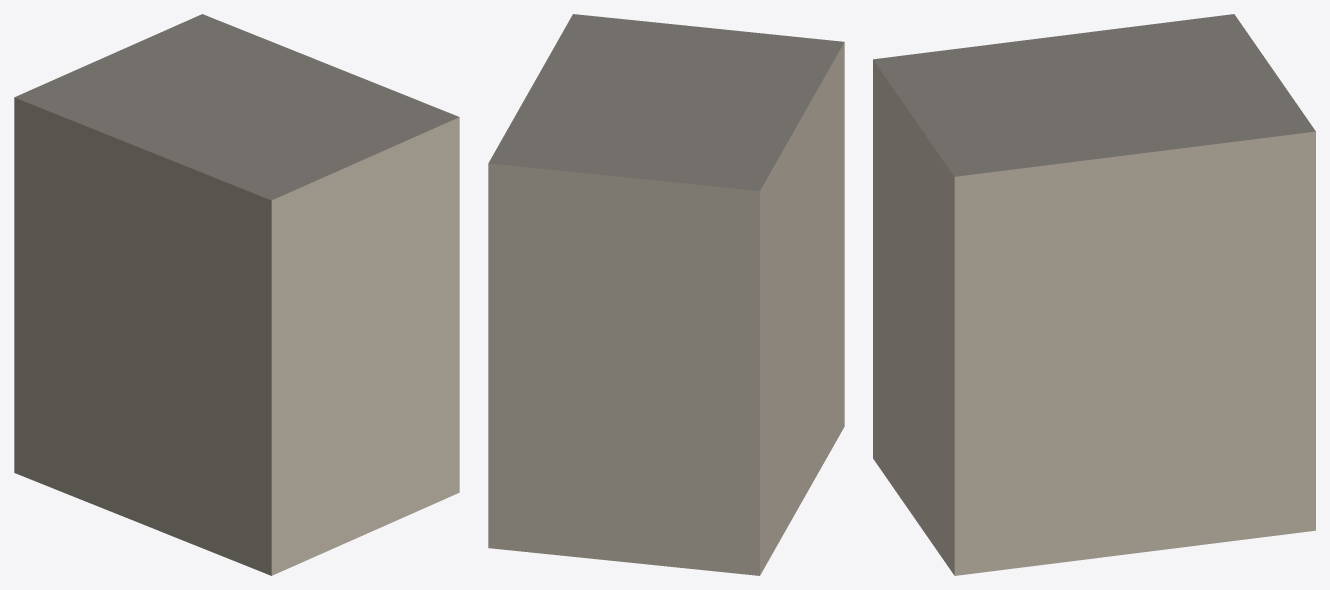
The picture shows the model from 3 angles, left to right: view 1: azimuth 30°, elevation 25°; view 2: azimuth 150°, elevation 25°; view 3: azimuth 270°, elevation 25°; orthographic projection. The views are drawn at different scales.
Parts seen in each view (by area): view 1: HP-w446933496; view 2: HP-w446933496; view 3: HP-w446933496.
Part boxes in pixels (x1=…): HP-w446933496: x1=14, y1=14, x2=459, y2=575; HP-w446933496: x1=488, y1=14, x2=844, y2=575; HP-w446933496: x1=873, y1=14, x2=1315, y2=575.
Size of the model in its own units: 15.75 by 18 by 18.11.
